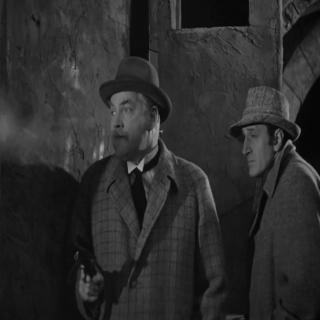gun: (67, 237, 107, 302)
